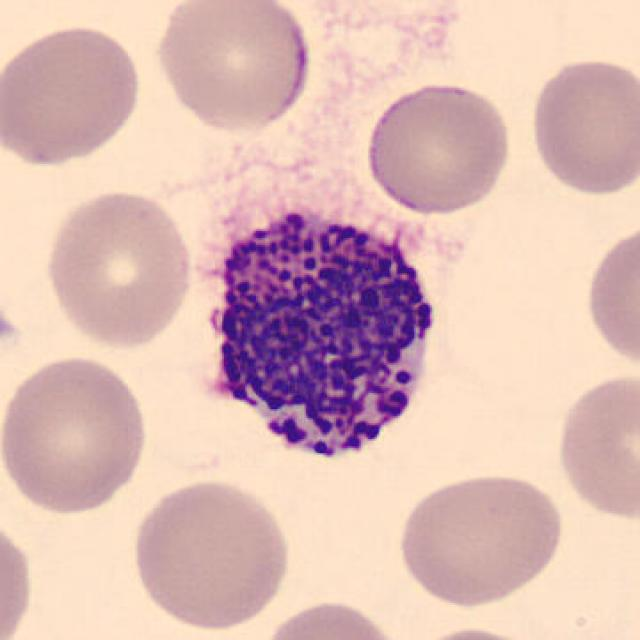Basophil: (183, 178, 457, 487)
Platelets: (0, 305, 21, 358)
RBC: (126, 474, 295, 635), (39, 185, 196, 353), (391, 467, 569, 610), (0, 351, 153, 516), (148, 0, 314, 136), (2, 19, 146, 171), (362, 78, 516, 218), (524, 53, 636, 199), (551, 368, 640, 526), (582, 218, 638, 374), (254, 596, 407, 640), (0, 509, 37, 640), (394, 622, 556, 640)
